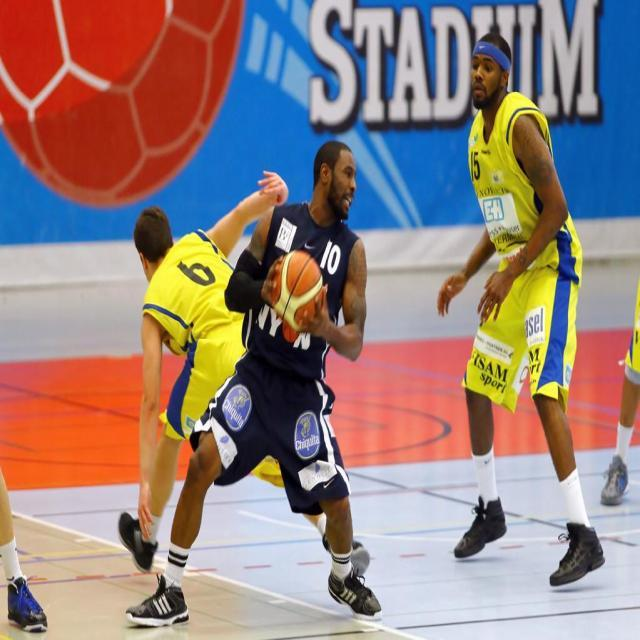rim: (275, 252, 323, 330)
